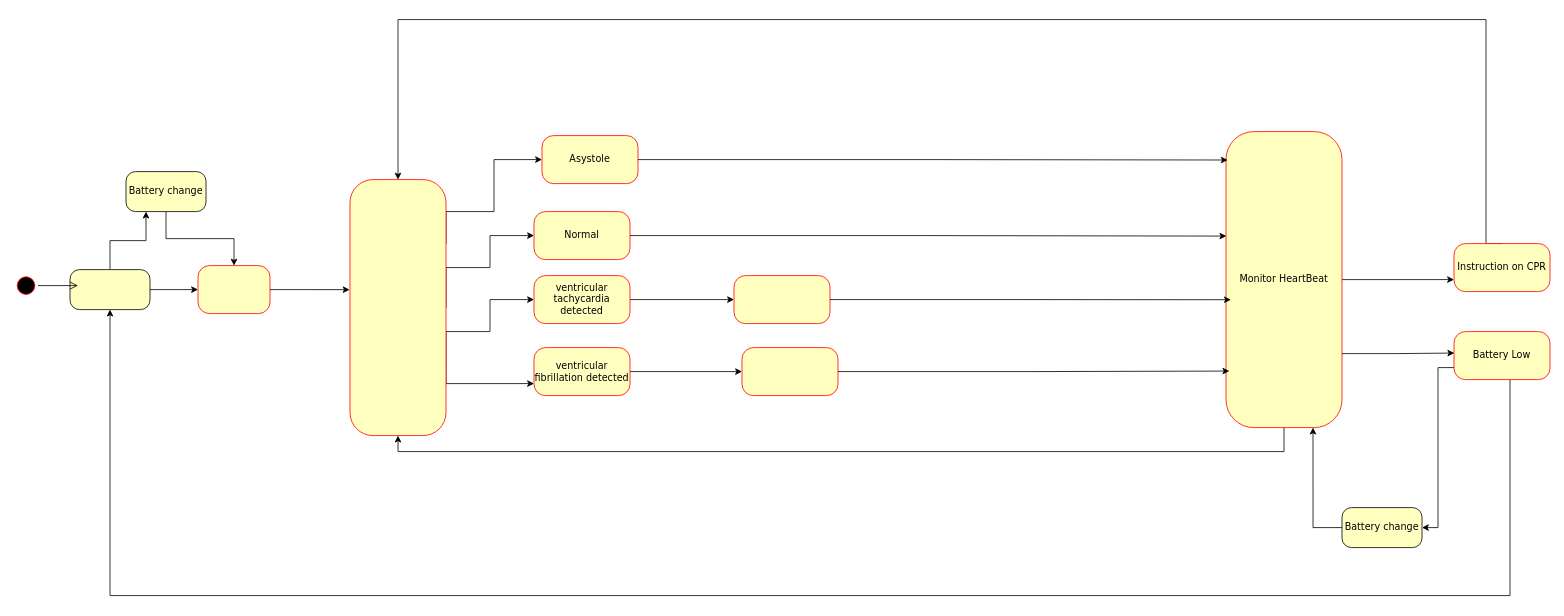
Image size: 1564x616. Some labels were removed from this diagram. The box of each missing label's shape, as (x1, y1, x2, y2) in pixels:
Analyze Heart Rhythm: (349, 179, 446, 436)
Power Off: (69, 269, 150, 310)
Power On: (197, 265, 270, 314)
ventricular fibrillation shock: (741, 347, 838, 396)
ventricular tachycardia shock: (733, 275, 830, 324)
